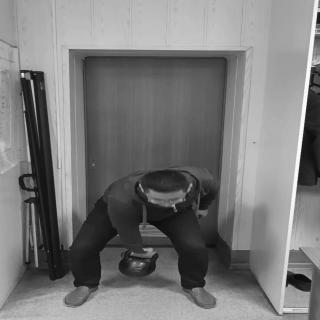kettlebell: (119, 251, 162, 282)
